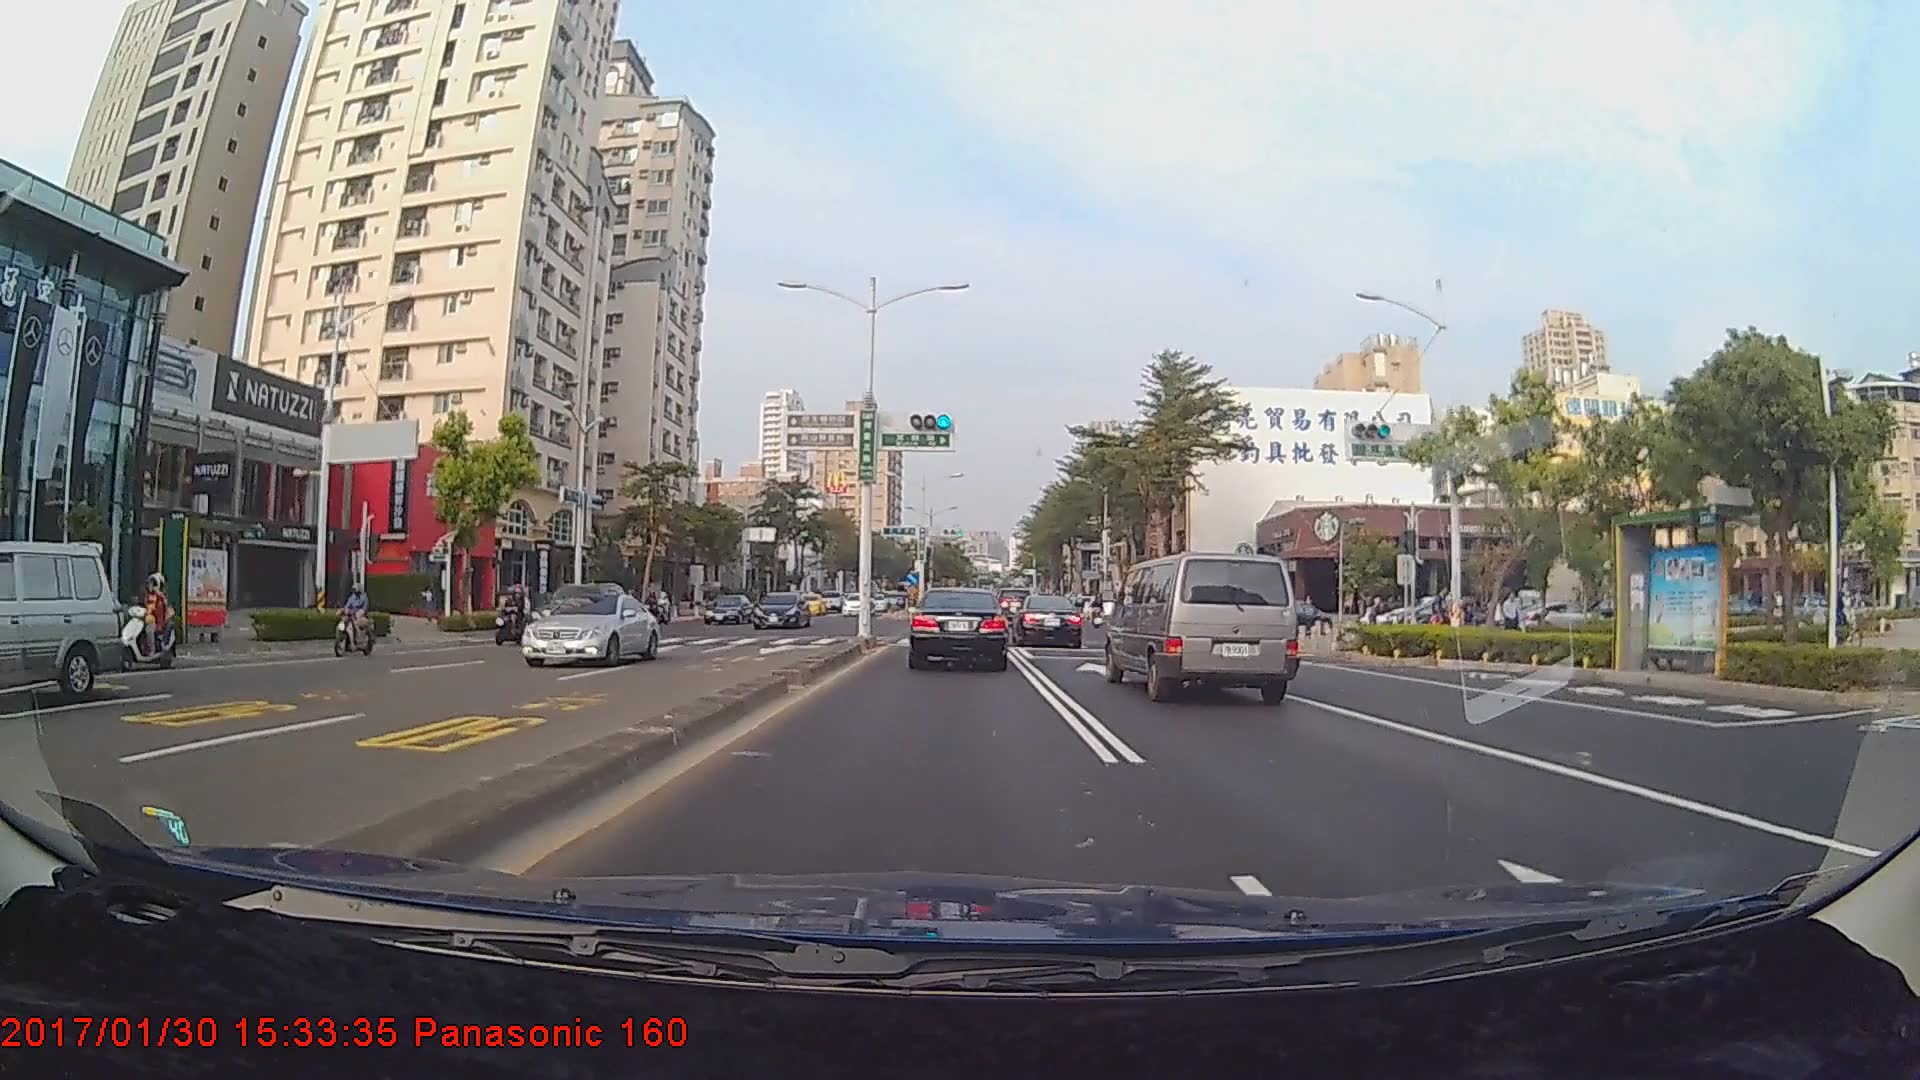rider: (115, 571, 177, 670), (330, 575, 387, 660), (489, 581, 533, 648)
vehicle: (1106, 550, 1300, 702), (0, 538, 127, 708), (519, 589, 659, 667), (908, 585, 1008, 669), (534, 582, 629, 649), (1015, 594, 1084, 647), (749, 590, 814, 631), (704, 592, 754, 622), (841, 592, 875, 614)
